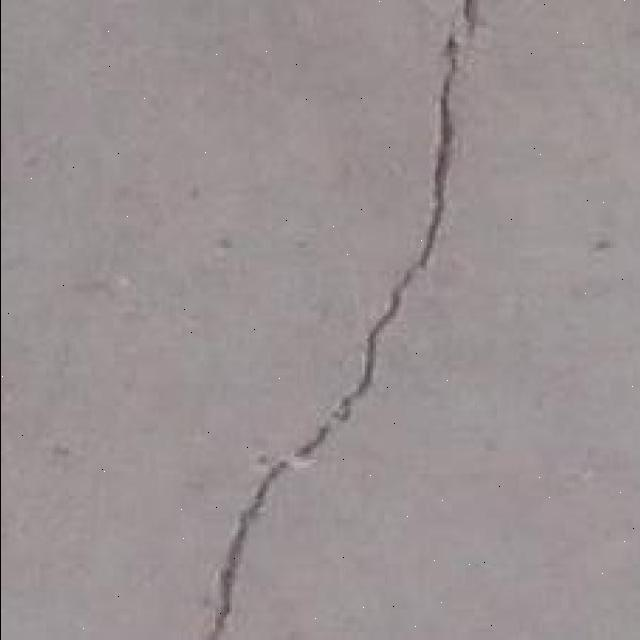crack: (198, 1, 480, 636), (396, 10, 472, 300), (200, 479, 270, 637), (250, 433, 331, 489), (460, 12, 494, 58)
